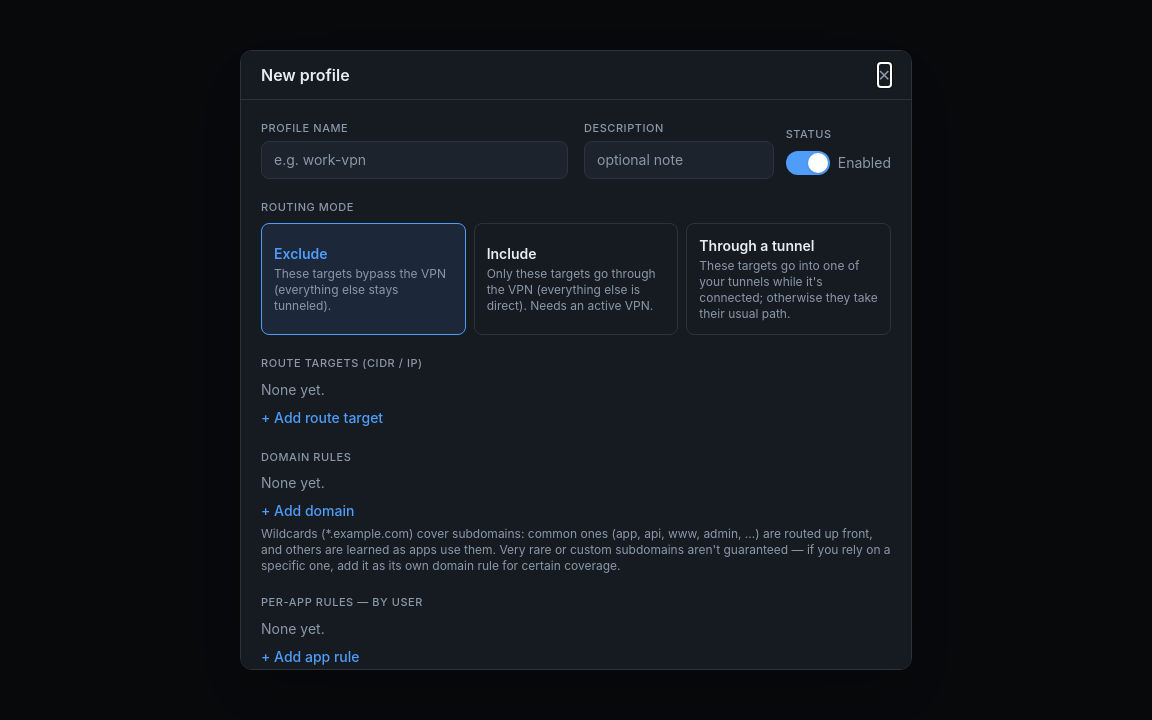
it: ProfileBuilder › validates a per-app uid rule on macOS via the user picker
Type "work" into the field with placeholder "e.g. work-vpn" at (414, 160), box [261,141,568,179]
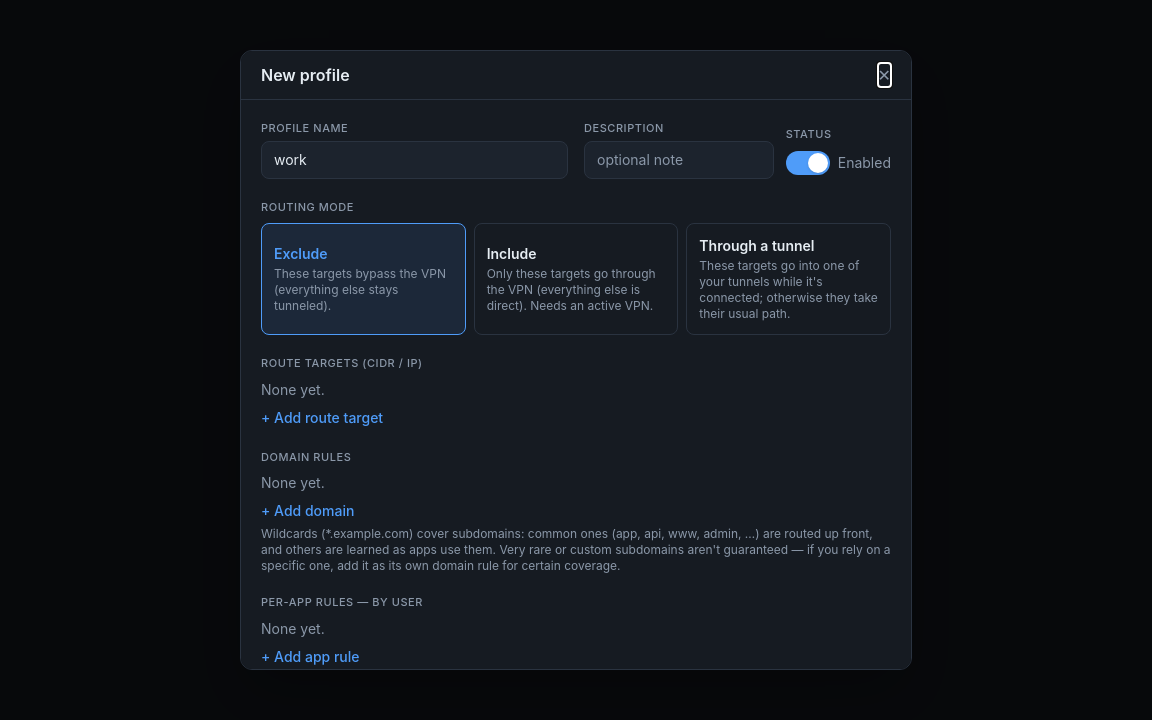
Click the text "Include" at (512, 254), box [487,245,537,262]
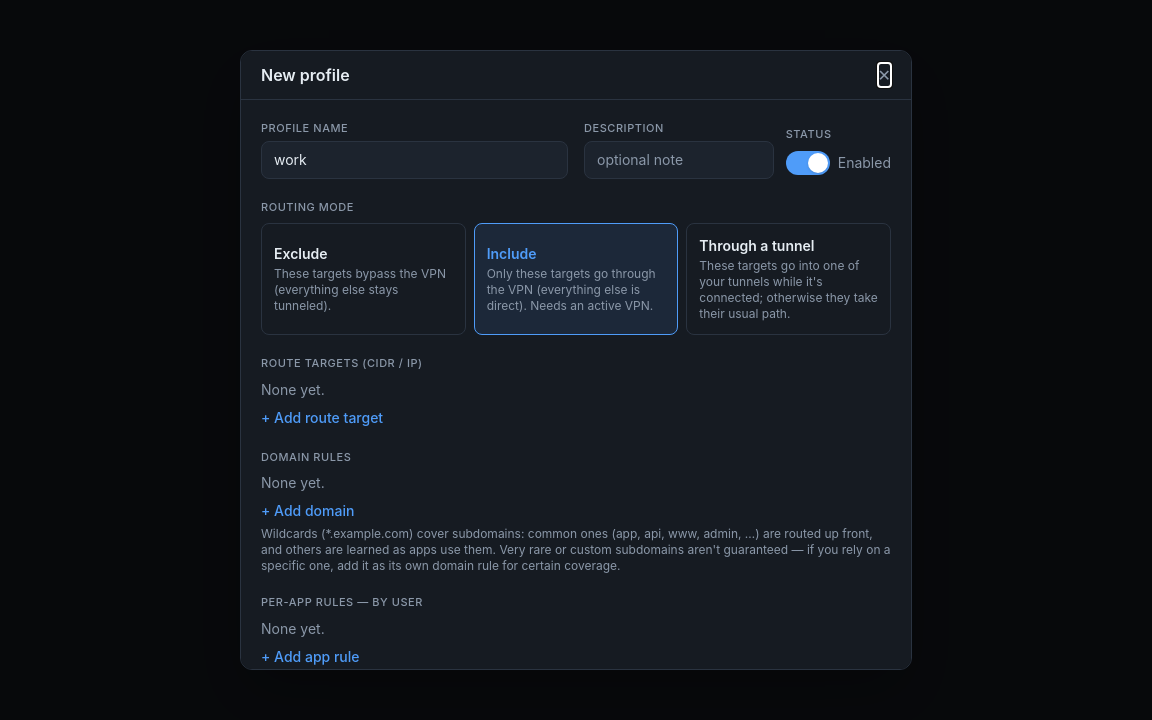
Click the button "+ Add app rule" at (310, 657), box [261,647,360,667]
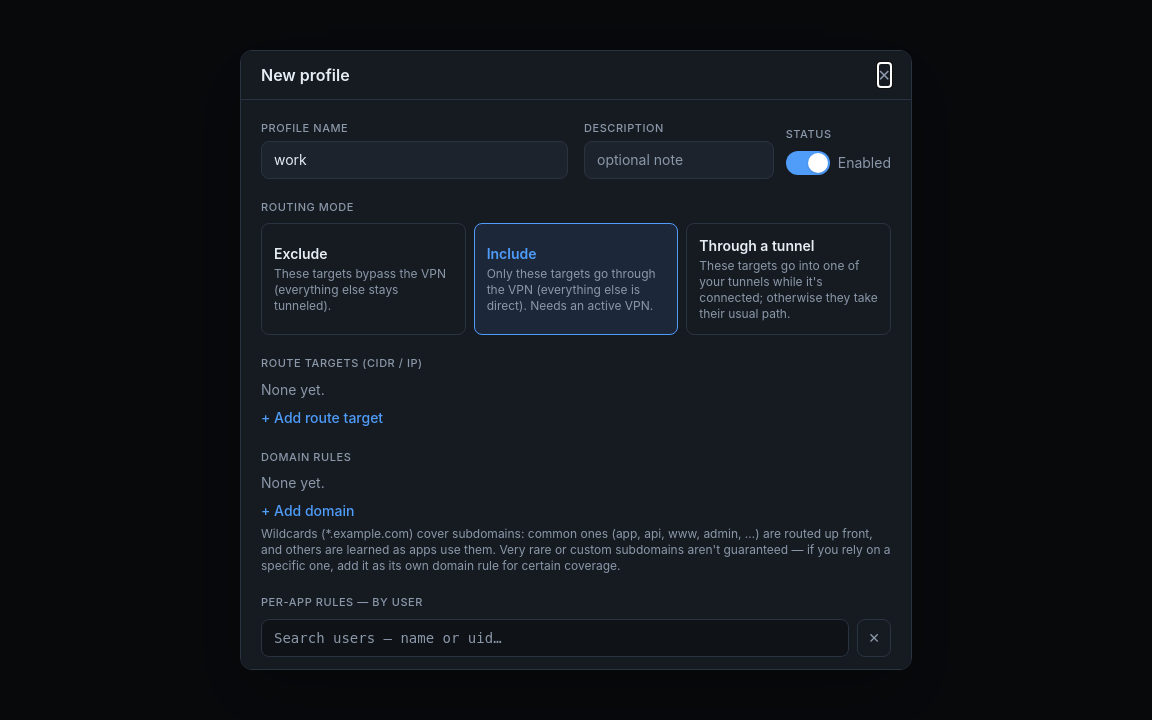
Type "/Applications/Firefox.app" into the dropdown named "App rule value" at (555, 638), box [261,619,849,657]
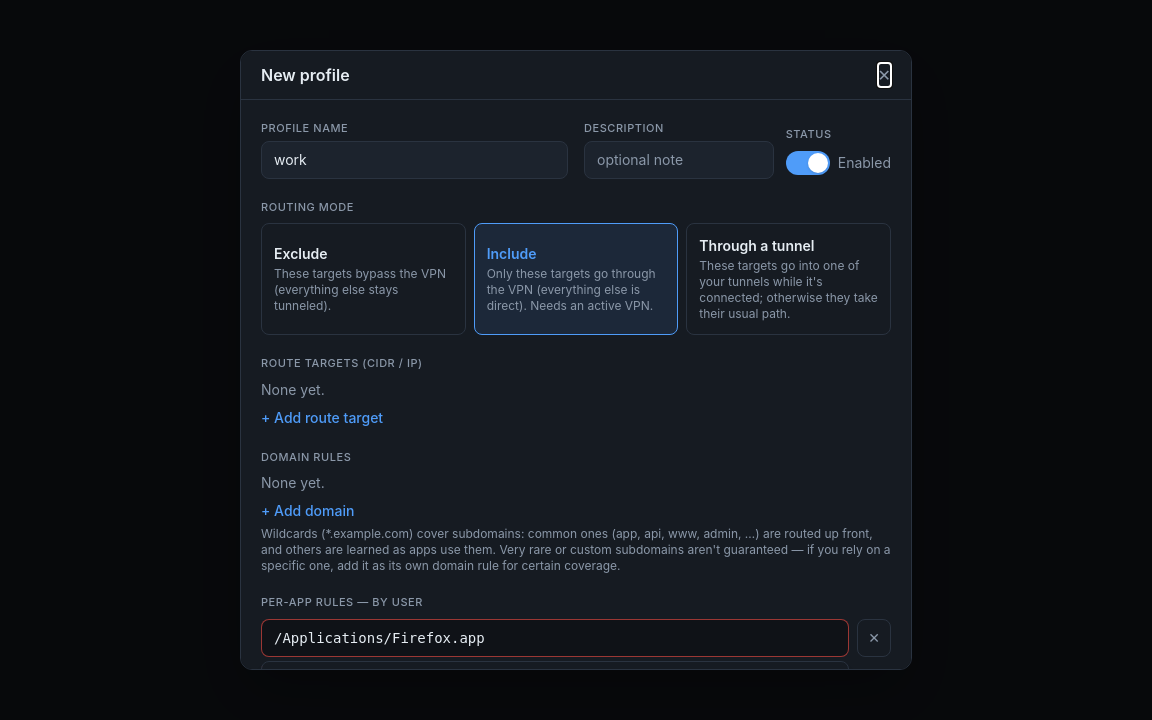
Replace the text in the dropdown named "App rule value" with "501" at (555, 638), box [261,619,849,657]
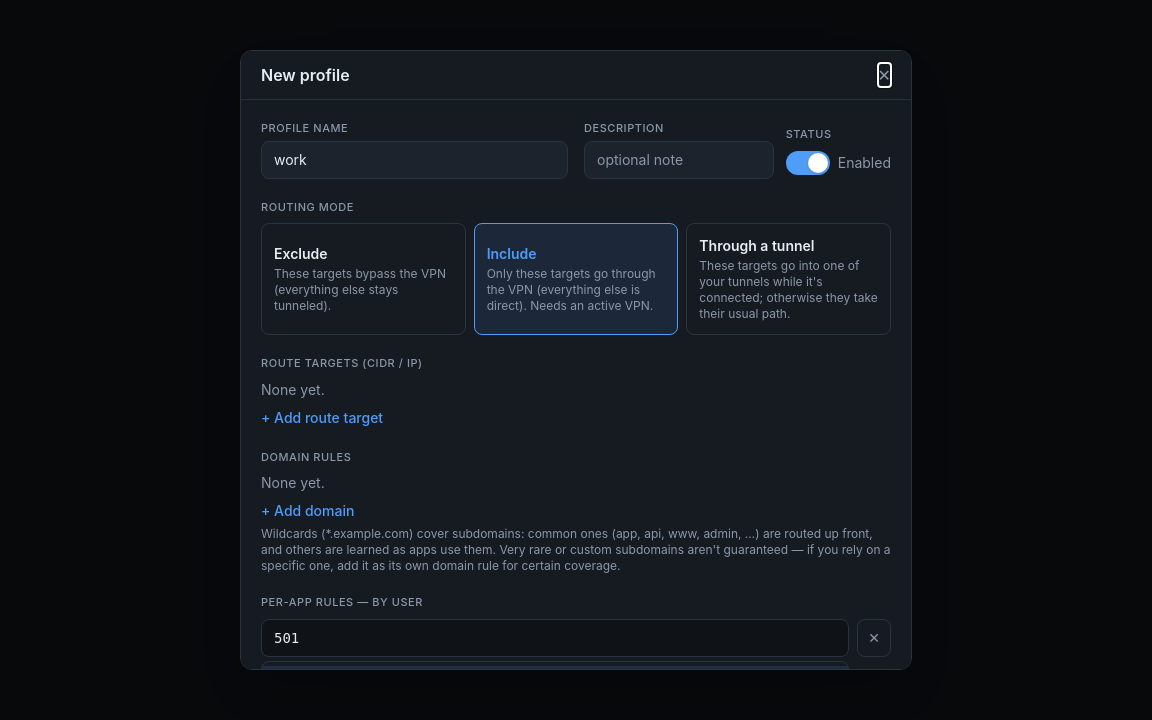
Now the text "uid or username" is gone
